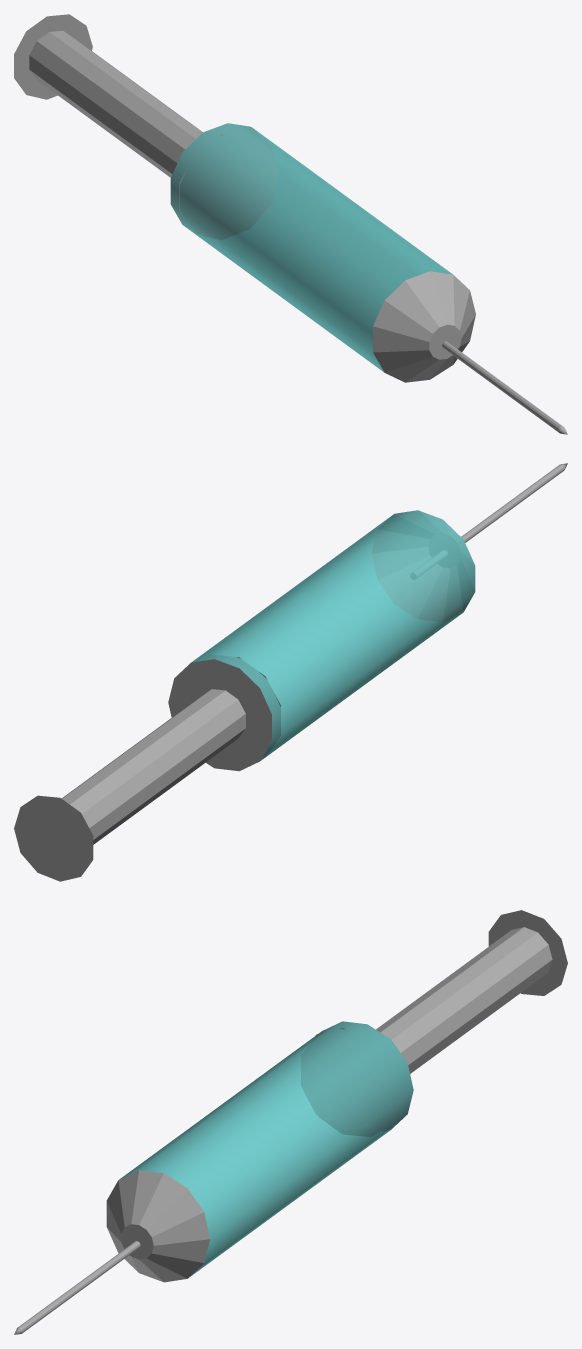
Rendered from jeringa.fbx.
3 views of the same model, one above another, from view 1: azimuth 30°, elevation 25°; view 2: azimuth 150°, elevation 25°; view 3: azimuth 330°, elevation 25° (orthographic).
Parts seen in each view (by area): view 1: pCylinder1, pCylinder2, pCylinder3; view 2: pCylinder1, pCylinder2, pCylinder3; view 3: pCylinder1, pCylinder2, pCylinder3.
Boxes of the visible parts, box(x1,y1,x2,y2) form: pCylinder1: box(170, 123, 475, 382); pCylinder2: box(14, 14, 279, 239); pCylinder3: box(442, 341, 567, 434); pCylinder1: box(168, 510, 475, 771); pCylinder2: box(14, 655, 280, 881); pCylinder3: box(410, 463, 567, 579); pCylinder1: box(106, 1021, 413, 1282); pCylinder2: box(301, 910, 567, 1136); pCylinder3: box(14, 1241, 140, 1334).
Size of the model in its own units: 0.0483 by 0.0486 by 0.4162.
